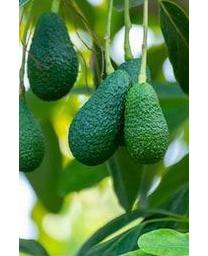avocado: (67, 68, 130, 166), (27, 11, 78, 101), (125, 83, 170, 164), (20, 92, 44, 173)
